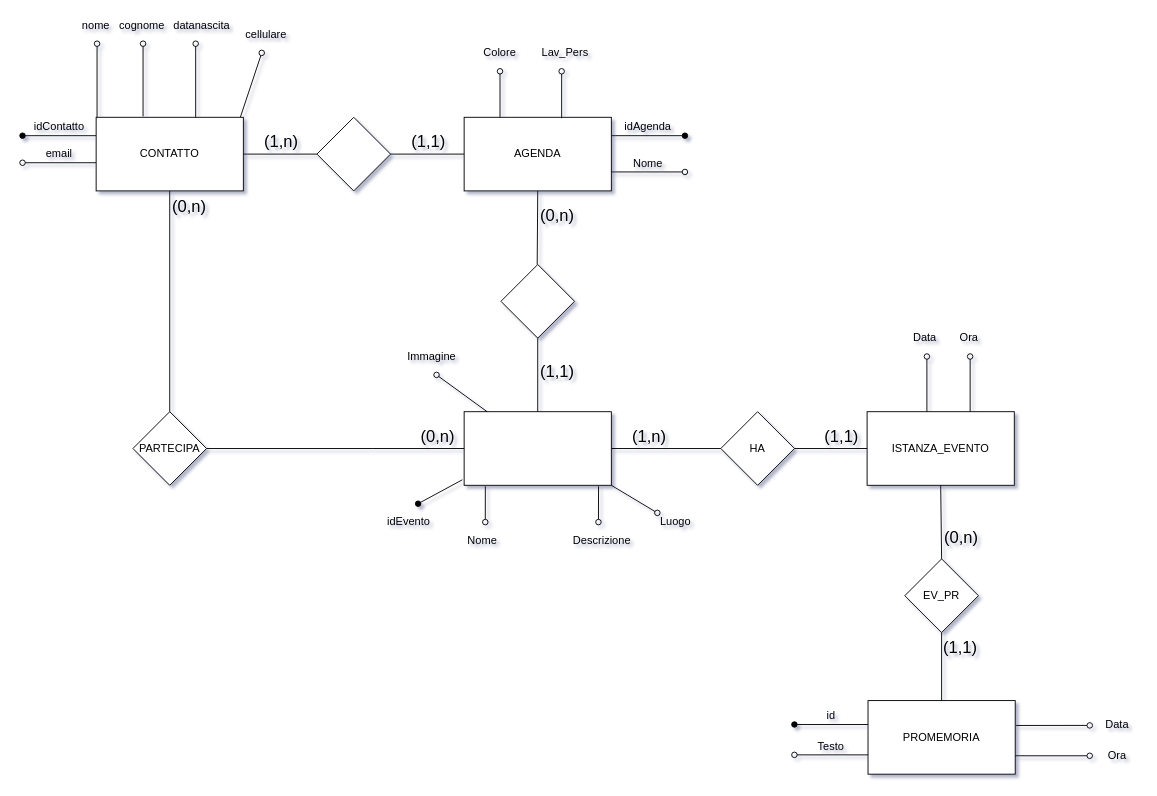
This 1157x796 diagram has some shape labels left out. Each missing label, with the centre of its shape:
CONTIENE: the point at 537,301
EVENTO: the point at 537,448
POSSIEDE: the point at 353,153
